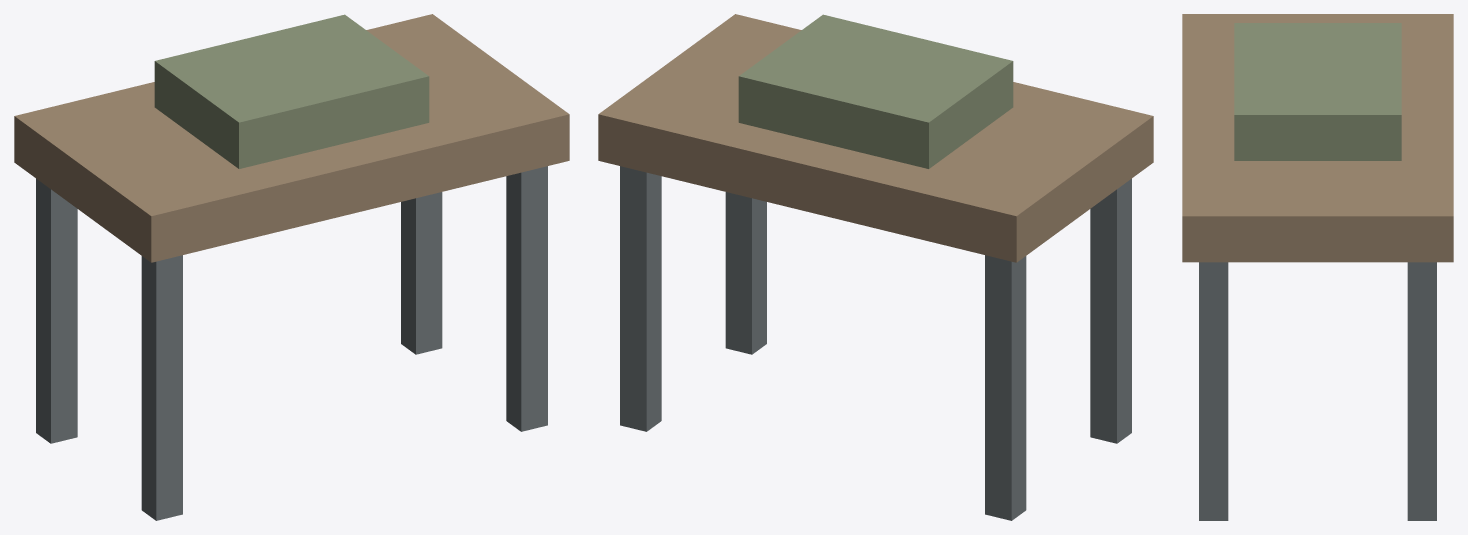
The model's file is iz2_farm_greenhouse_frame.glb.
The picture shows the model from 3 angles, left to right: view 1: azimuth 30°, elevation 25°; view 2: azimuth 150°, elevation 25°; view 3: azimuth 270°, elevation 25°; orthographic projection.
Parts seen in each view (by area): view 1: body; view 2: body; view 3: body.
Boxes of the visible parts, x1,y1,x2,y2 form: body: (14,14,569,520); body: (598,14,1153,520); body: (1182,14,1453,520).
Bounding box in the file's own units: 1.14 × 0.937 × 0.6451.
